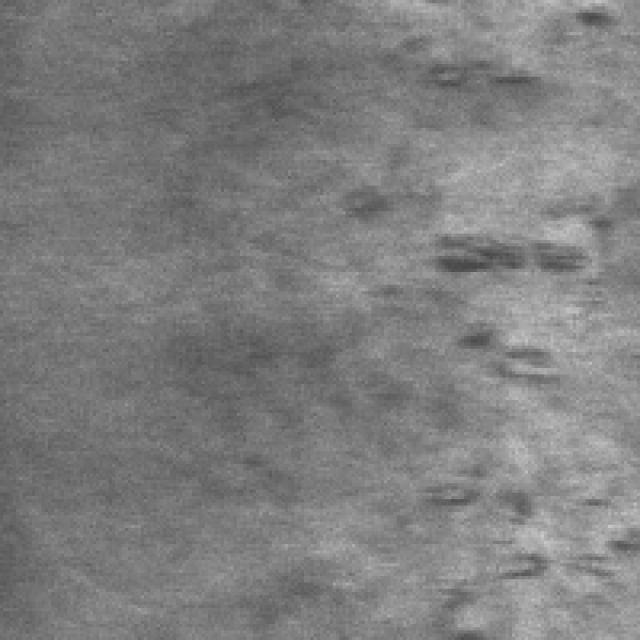rolled-in_scale: (407, 208, 628, 634), (381, 0, 611, 106)
